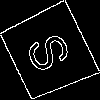S: (24, 26, 81, 76)
